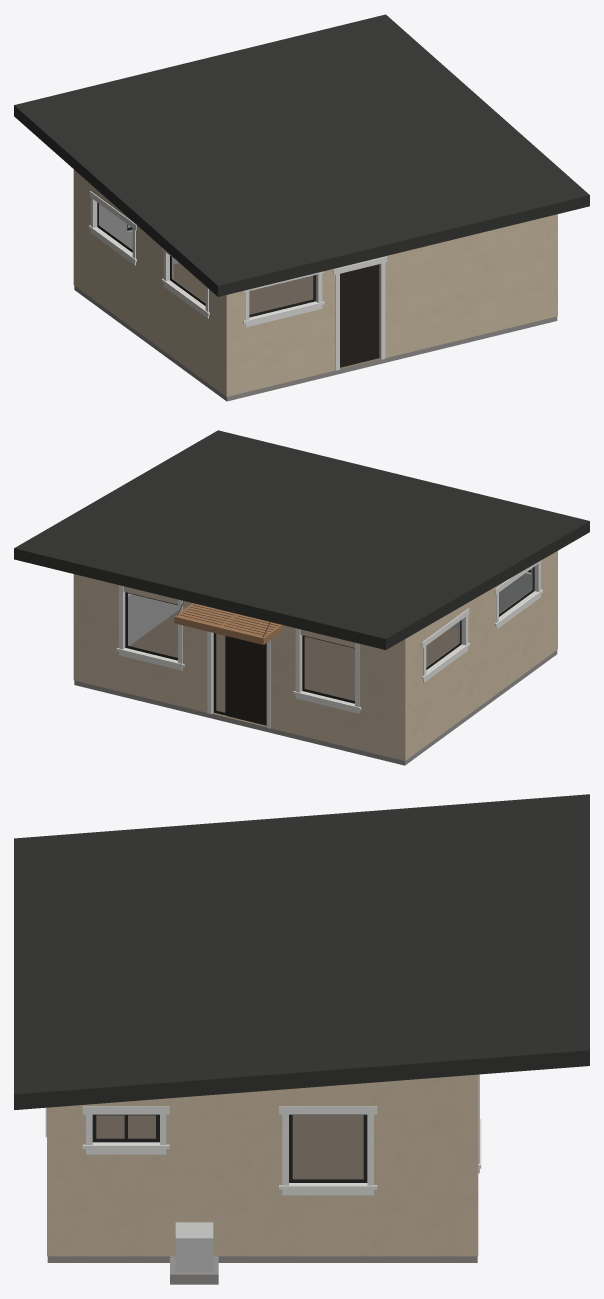
The model's file is laurel_a1_460_lod1.glb.
The picture shows the model from 3 angles, top to bottom: view 1: azimuth 30°, elevation 25°; view 2: azimuth 150°, elevation 25°; view 3: azimuth 270°, elevation 25°; orthographic projection. The views are drawn at different scales.
Visible parts, largest first — view 1: Roof_shed, Sheathing_rear, Sheathing_x0, Slab, Leaf_D-6, Trim_ext_siding_rear, Trim_ext_siding_x0, Glazing_W-C3, Glazing_W-C1, Wall_front, Glazing_W-C2, Wall_x0; view 2: Roof_shed, Sheathing_front, Sheathing_x0, Slab, Leaf_D-1, Trim_ext_siding_front, Glazing_W-A2, Glazing_W-A1, Trim_ext_siding_x0, Canopy_slats, Wall_x24, Canopy_frame (+7 smaller); view 3: Roof_shed, Sheathing_x24, Slab, Trim_ext_siding_x24, Glazing_W-D1, Equip_condenser, Glazing_W-E1, Sash_W-D1, Equip_pad, Sash_W-E1.
Part boxes in pixels (left/top/right/bottom): Roof_shed: left=14, top=14, right=589, bottom=296; Sheathing_rear: left=226, top=214, right=557, bottom=396; Sheathing_x0: left=74, top=170, right=226, bottom=396; Slab: left=74, top=263, right=557, bottom=401; Leaf_D-6: left=340, top=264, right=379, bottom=367; Trim_ext_siding_rear: left=243, top=256, right=387, bottom=370; Trim_ext_siding_x0: left=88, top=191, right=209, bottom=318; Glazing_W-C3: left=249, top=276, right=312, bottom=314; Glazing_W-C1: left=99, top=204, right=132, bottom=249; Wall_front: left=100, top=205, right=178, bottom=264; Glazing_W-C2: left=172, top=257, right=205, bottom=302; Wall_x0: left=94, top=200, right=205, bottom=308; Roof_shed: left=14, top=430, right=589, bottom=649; Sheathing_front: left=73, top=574, right=405, bottom=760; Sheathing_x0: left=405, top=551, right=557, bottom=760; Slab: left=74, top=611, right=557, bottom=765; Leaf_D-1: left=227, top=636, right=266, bottom=725; Trim_ext_siding_front: left=116, top=585, right=361, bottom=728; Glazing_W-A2: left=305, top=636, right=354, bottom=700; Glazing_W-A1: left=128, top=593, right=177, bottom=657; Trim_ext_siding_x0: left=421, top=560, right=542, bottom=682; Canopy_slats: left=177, top=603, right=280, bottom=637; Wall_x24: left=128, top=593, right=177, bottom=645; Canopy_frame: left=174, top=603, right=283, bottom=644; Roof_shed: left=14, top=794, right=589, bottom=1110; Sheathing_x24: left=47, top=1074, right=477, bottom=1256; Slab: left=47, top=1115, right=477, bottom=1262; Trim_ext_siding_x24: left=82, top=1106, right=377, bottom=1195; Glazing_W-D1: left=293, top=1115, right=363, bottom=1178; Equip_condenser: left=175, top=1222, right=213, bottom=1272; Glazing_W-E1: left=96, top=1115, right=155, bottom=1138; Sash_W-D1: left=289, top=1114, right=367, bottom=1182; Equip_pad: left=170, top=1256, right=218, bottom=1284; Sash_W-E1: left=92, top=1114, right=159, bottom=1142.
Bounding box in the file's own units: 8.37 × 3.45 × 7.82.
13 materials, 2 textured.
